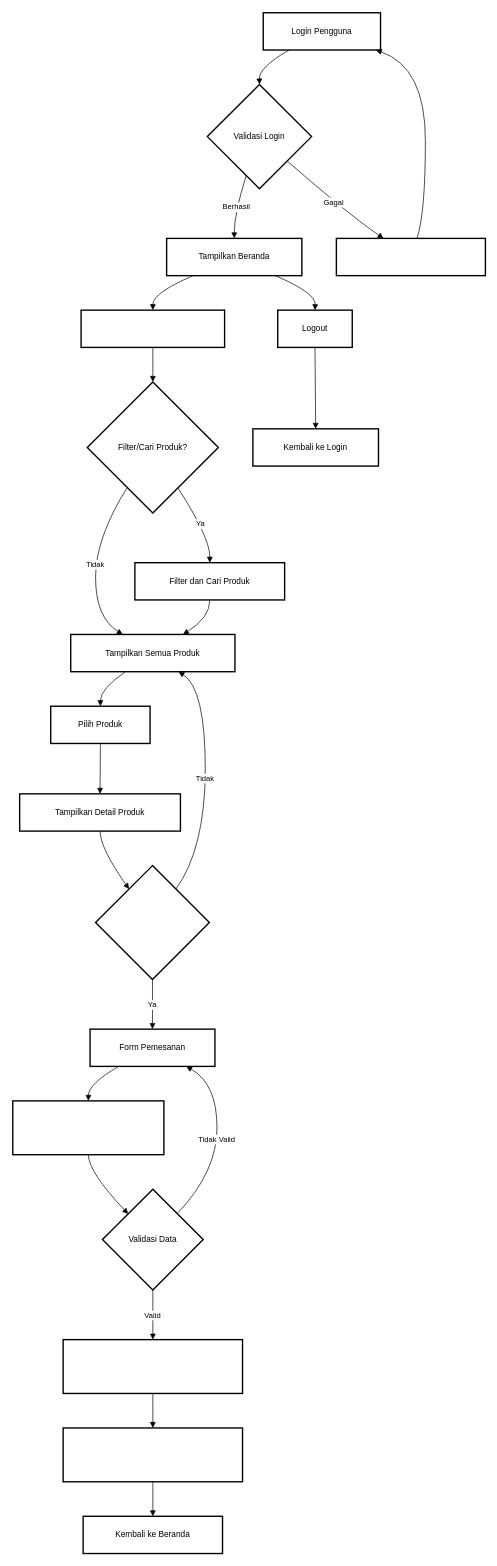
Some shapes in this 497 by 1566 pixel diagram are drawn without their labels. Each missing label, with the centre of its shape:
Ingin Memesan?: (x=152, y=922)
Input Data Pemesanan tanggal, durasi, dll: (x=88, y=1127)
Lihat Katalog Produk: (x=152, y=328)
Simpan Pesanan ke Database: (x=152, y=1366)
Tampilkan Error Login: (x=410, y=256)
Tampilkan Konfirmasi Berhasil: (x=152, y=1454)
